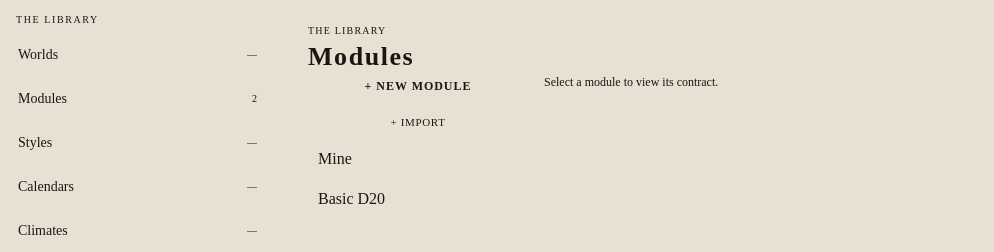
Test case: user module shows Edit; builtin shows duplicate hint
What coordinates should you click on to do the following:
click the link "Mine"
I would click on:
 (335, 159)
Its box is [318,150,352,167].
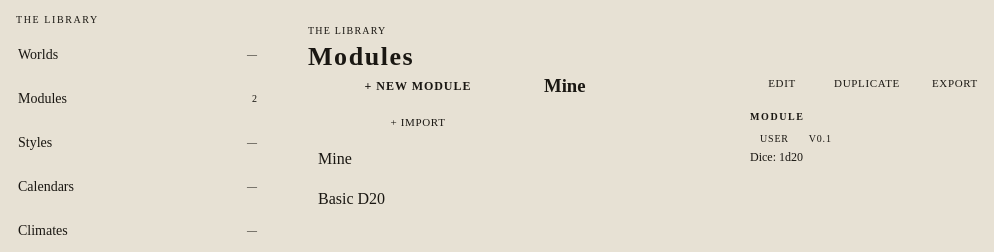
Result: the button "Edit" is shown at [750,71,814,95]
What coordinates should you click on to do the following:
click the link "Basic D20"
I would click on:
 (352, 199)
Its box is [318,190,385,207].
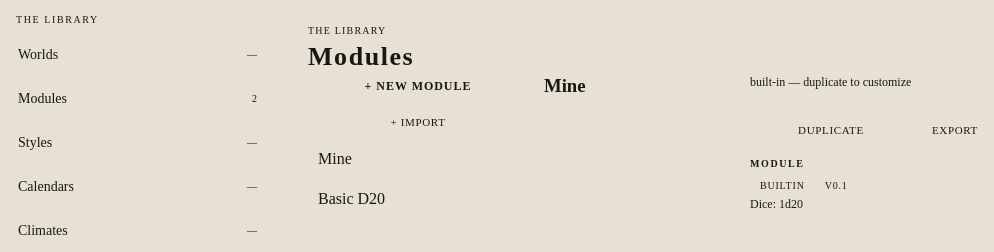
Result: the text "built-in — duplicate to customize" is shown at [750,75,911,89]
Result: the button "Edit" is gone
